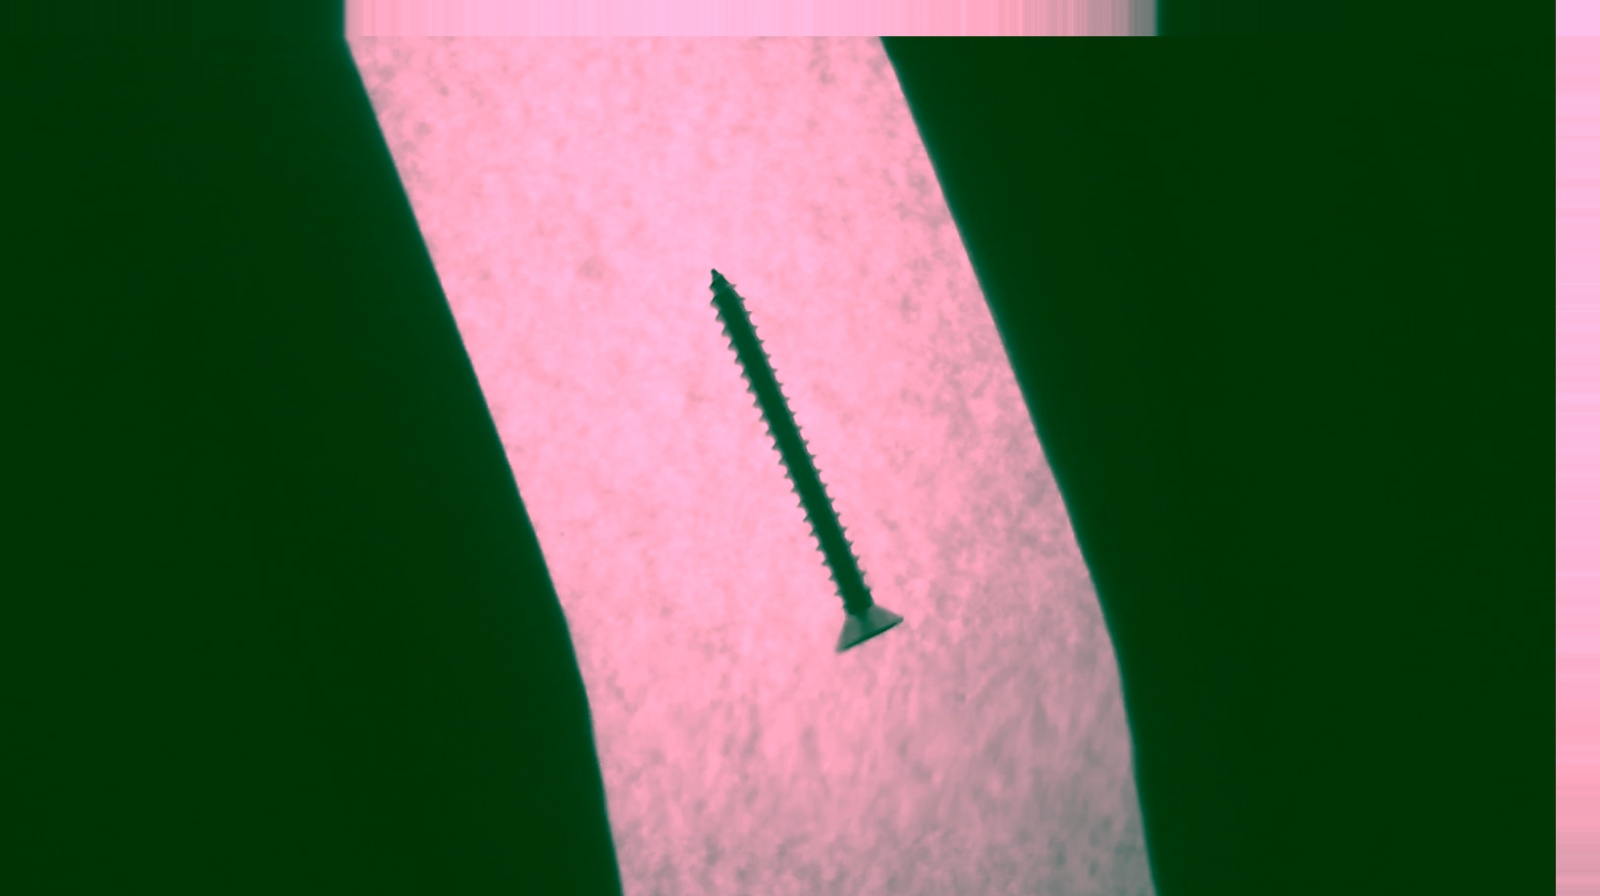S002: (693, 257, 913, 664)
